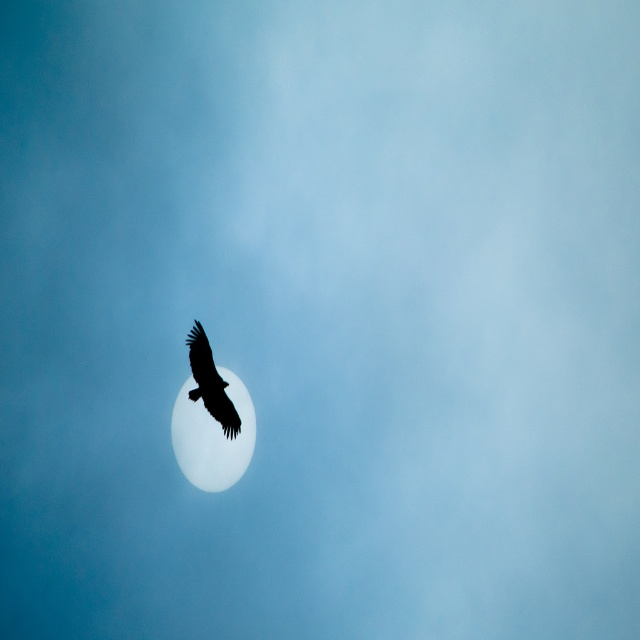Eagle: (184, 319, 244, 443)
